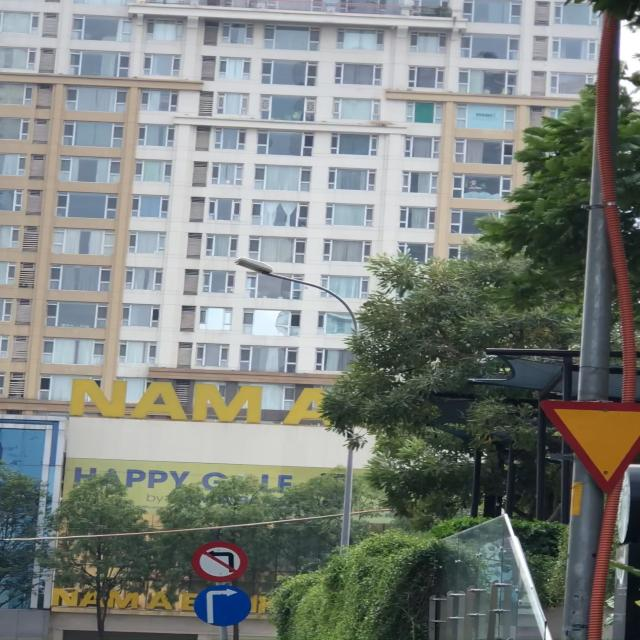Bien bao cam re trai: (187, 539, 248, 585)
Bien bao giao nhau voi duong uu tien: (540, 396, 640, 496)
Bien bao huong di phai theo: (194, 585, 253, 631)
